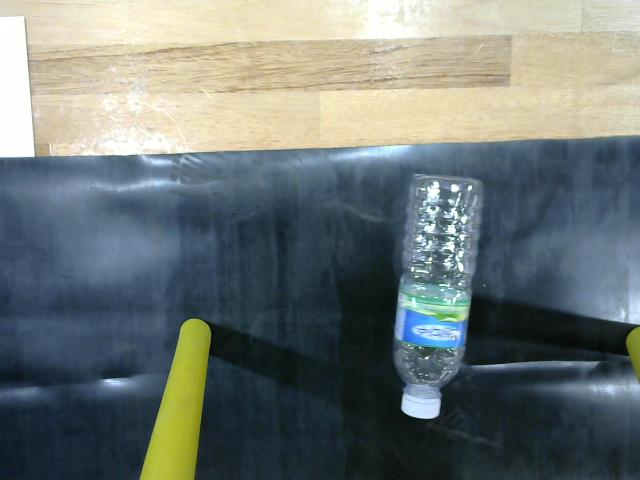bottle: (378, 161, 498, 427)
